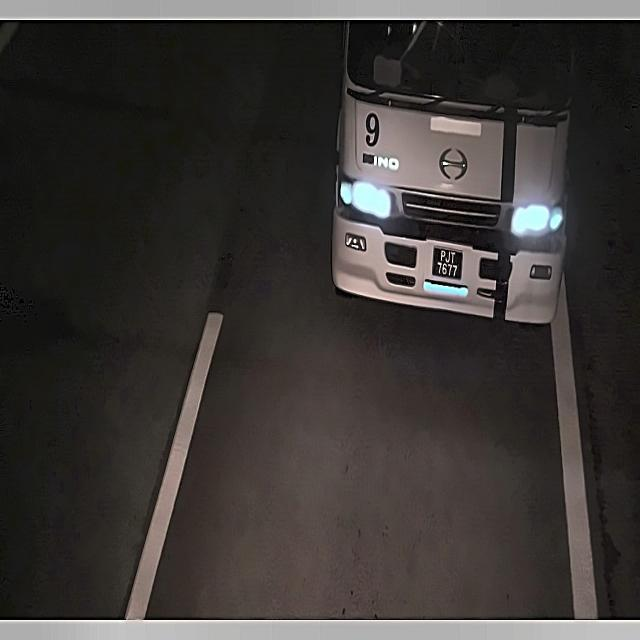car: (427, 236, 468, 288)
